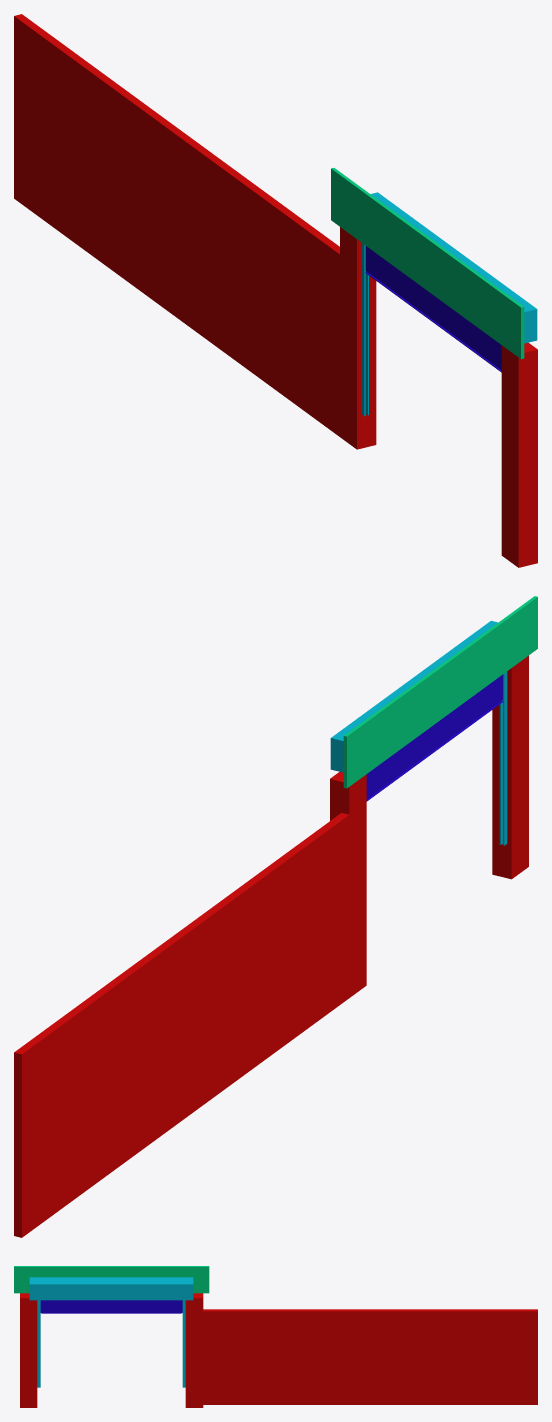
Rendered from hometown_wall.FBX.
The picture shows the model from 3 angles, top to bottom: view 1: azimuth 30°, elevation 25°; view 2: azimuth 150°, elevation 25°; view 3: azimuth 270°, elevation 25°; orthographic projection. The views are drawn at different scales.
Parts seen in each view (by area): view 1: wall; view 2: wall; view 3: wall.
Part boxes in pixels (box(x1,y1,x2,y2)): wall: box(14, 14, 537, 567); wall: box(14, 596, 537, 1237); wall: box(14, 1266, 537, 1407).
Size of the model in its own units: 0.4784 by 13.42 by 3.85.
